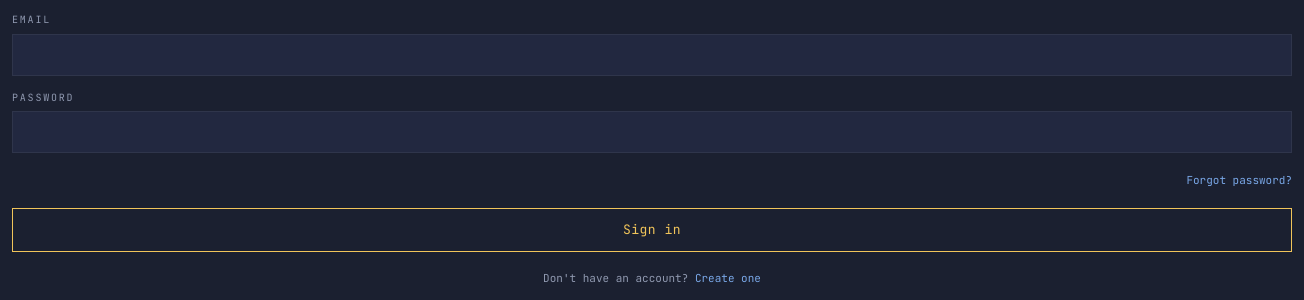
SignInForm › disables the submit button while loading
The width and height of the screenshot is (1304, 300).
Type "a@b.c" into the field labelled "Email" at (652, 55), box left=12, top=34, right=1292, bottom=76
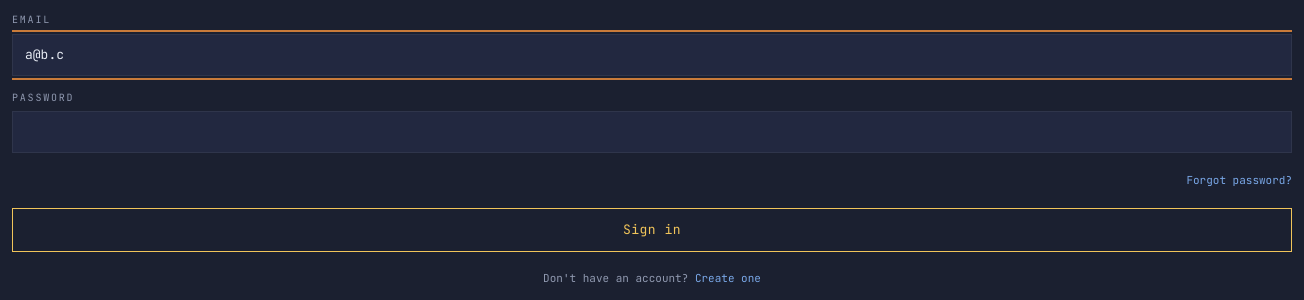
Type "secret123" into the password field labelled "Password" at (652, 132), box left=12, top=111, right=1292, bottom=153
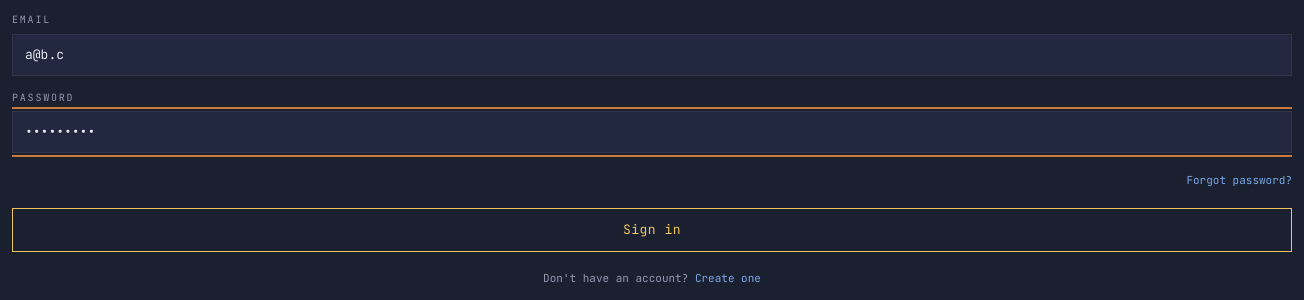
Click the button "Sign in" at (652, 230), box left=12, top=208, right=1292, bottom=252
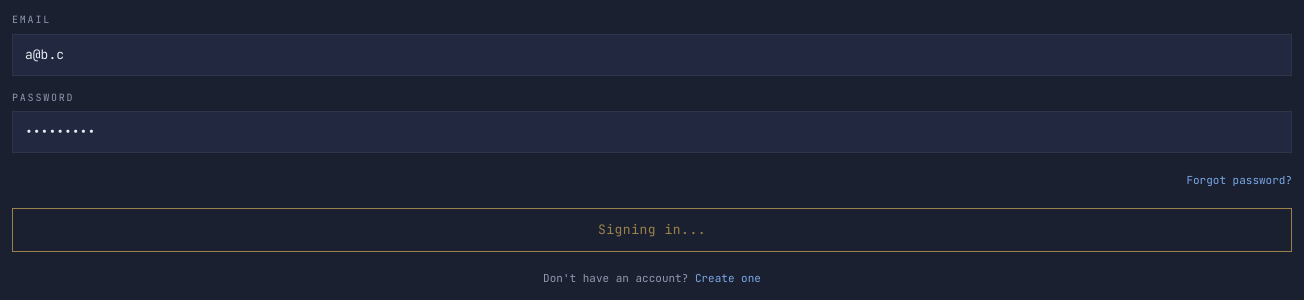
expect the button is disabled: met, box left=12, top=208, right=1292, bottom=252
